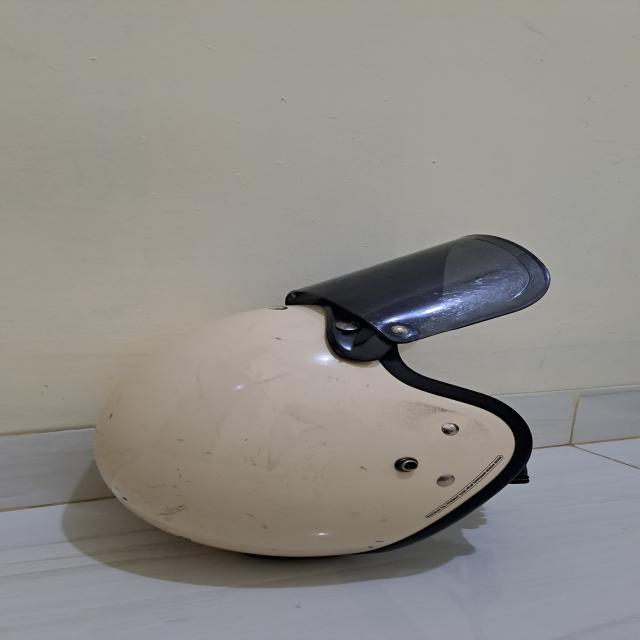Helm: (64, 234, 556, 564)
